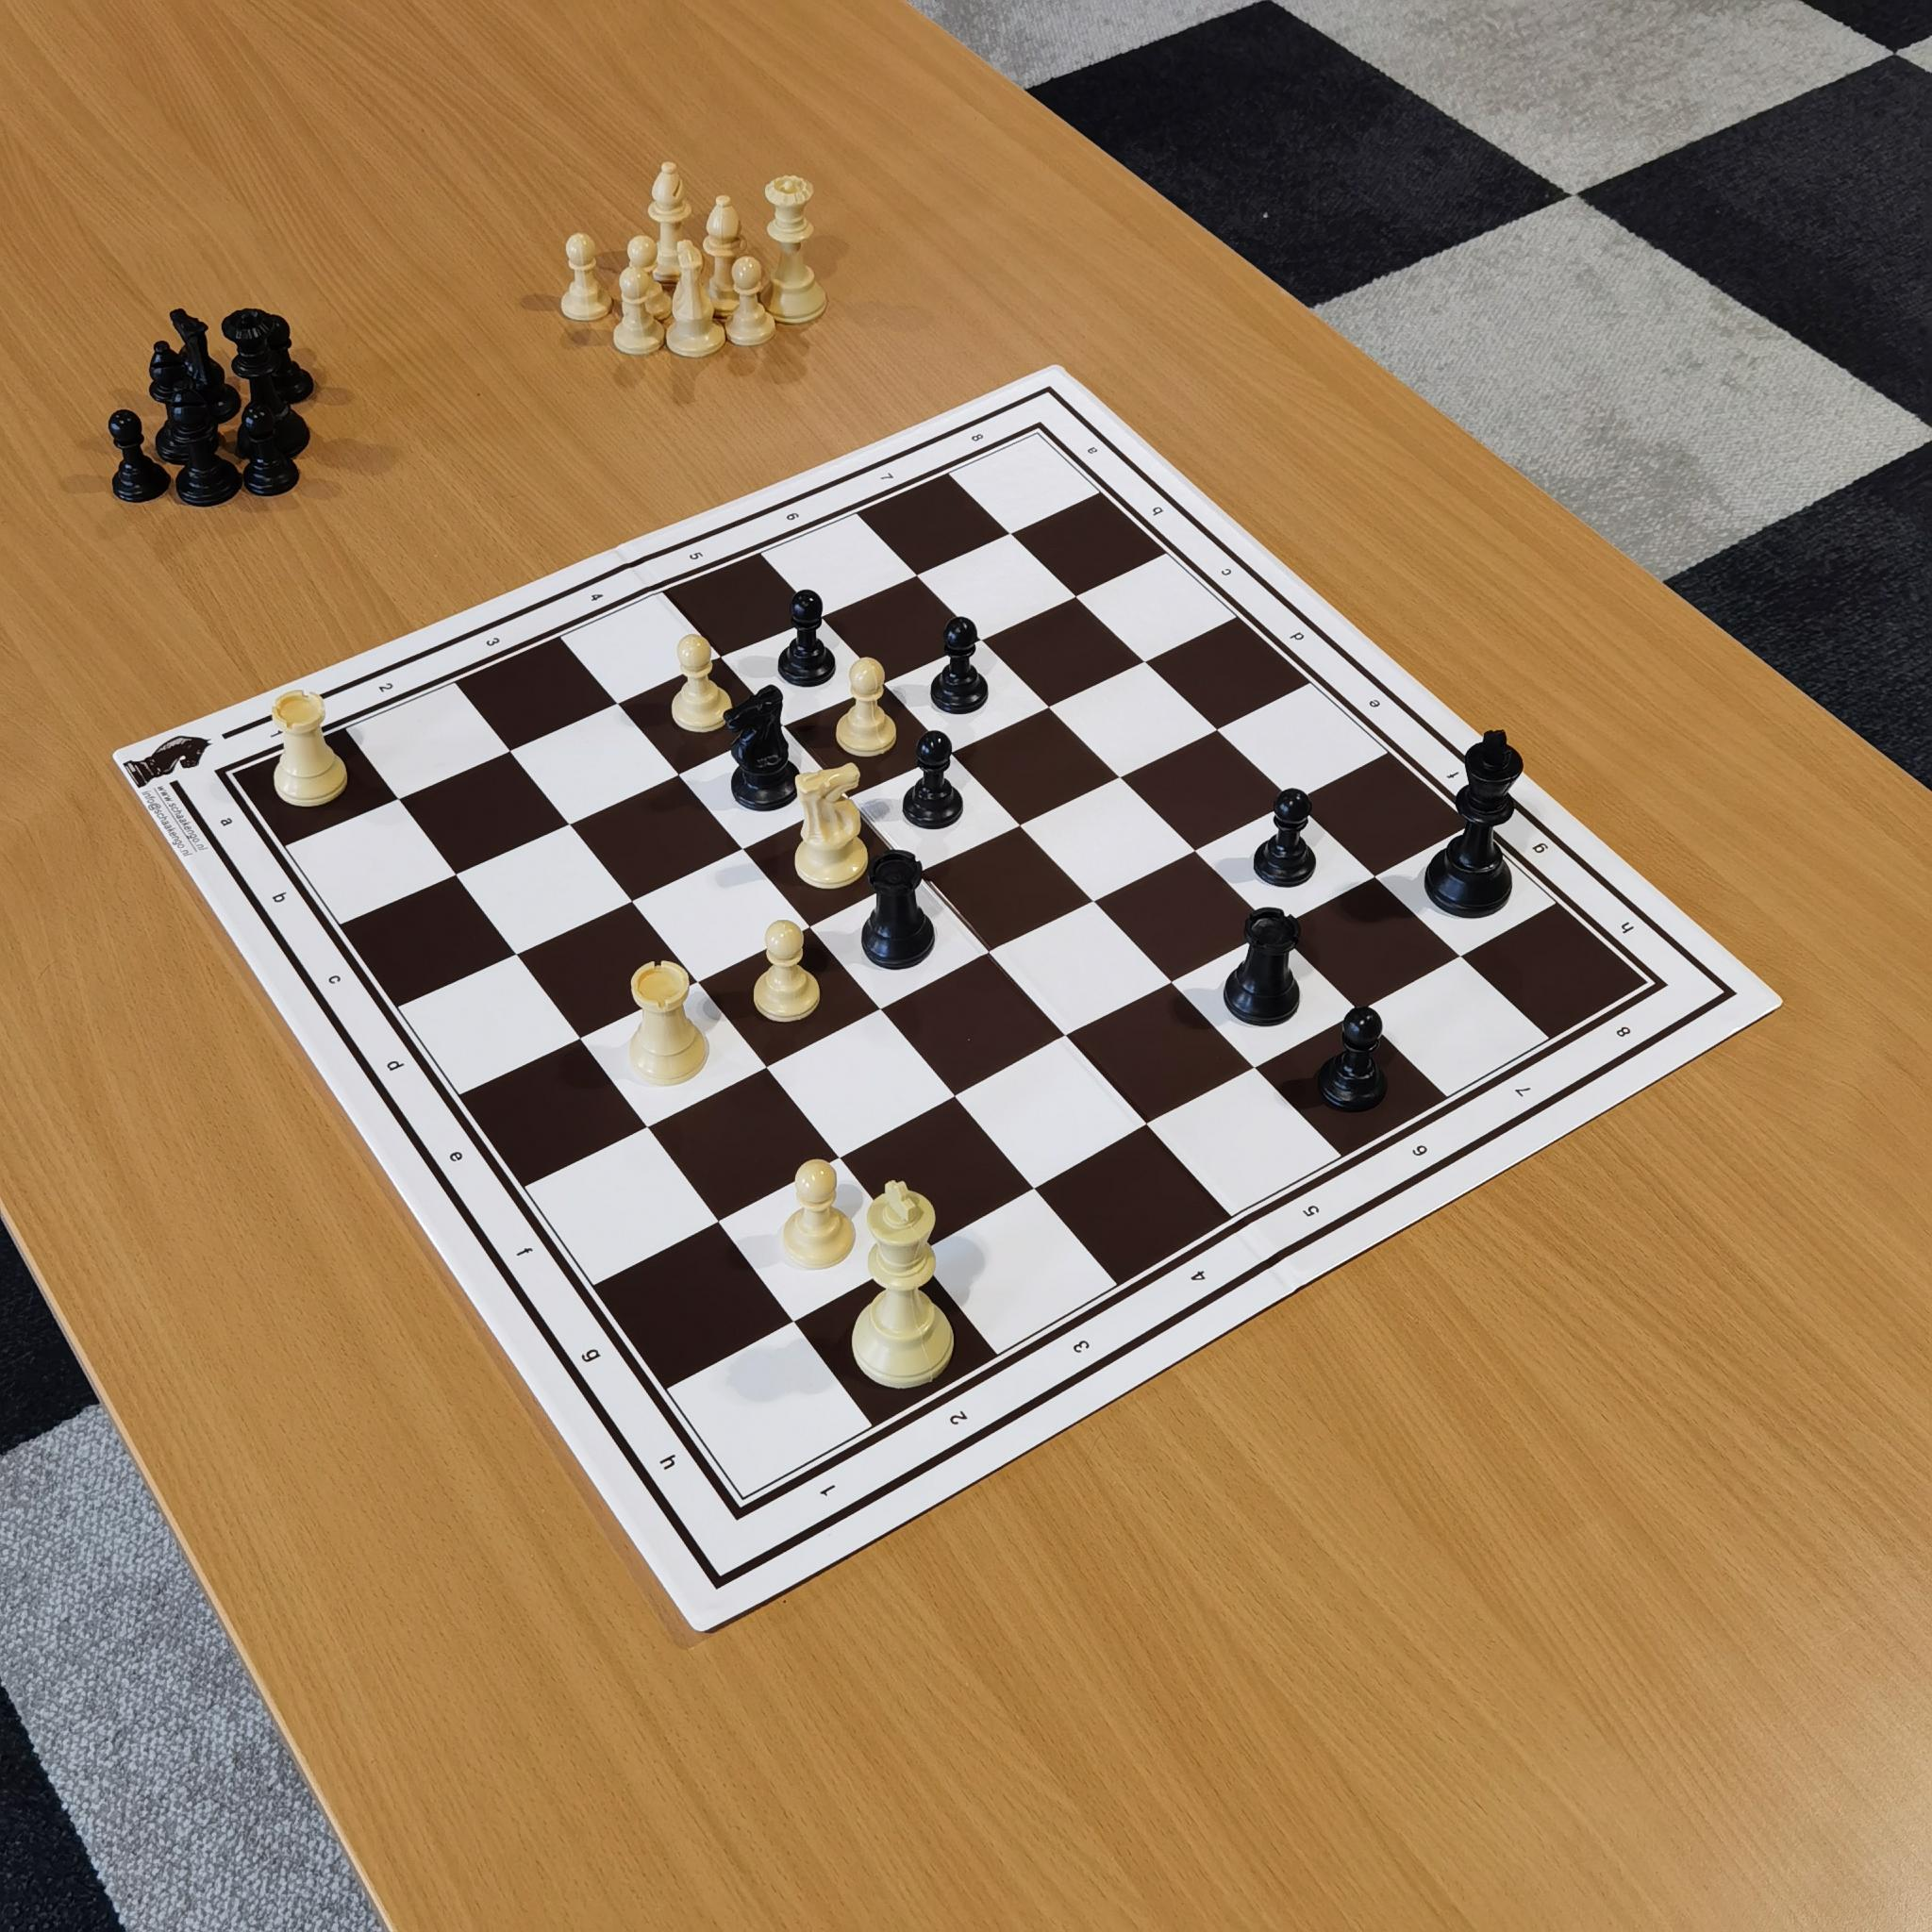corners: (715, 1479, 771, 1534), (1624, 961, 1684, 1003), (203, 755, 258, 800), (1017, 416, 1067, 456)
eight: (1605, 1008, 1647, 1058), (959, 416, 996, 453)
one: (803, 1465, 860, 1518), (269, 713, 304, 752)
